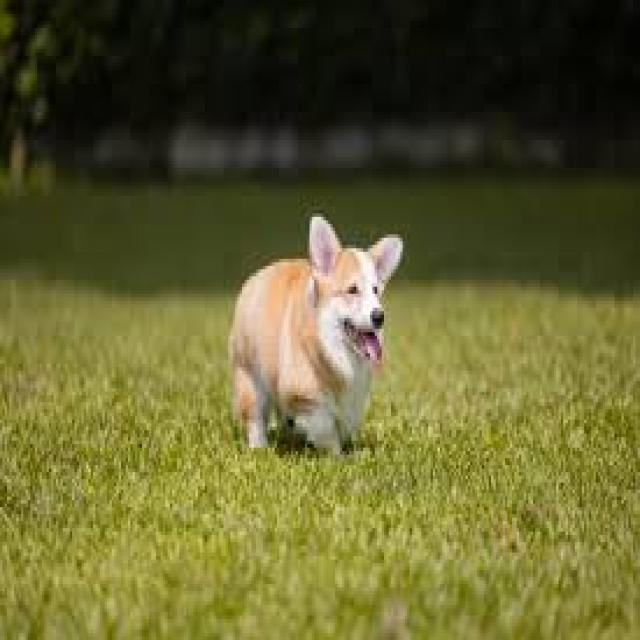CORGI: (205, 197, 422, 479)
